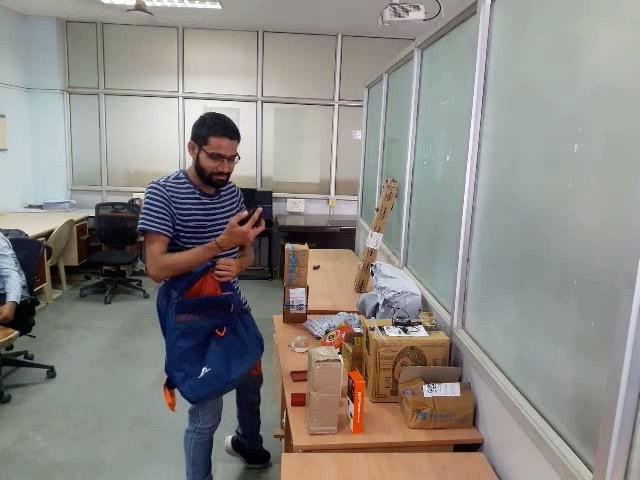shoplifting: (86, 186, 361, 414)
